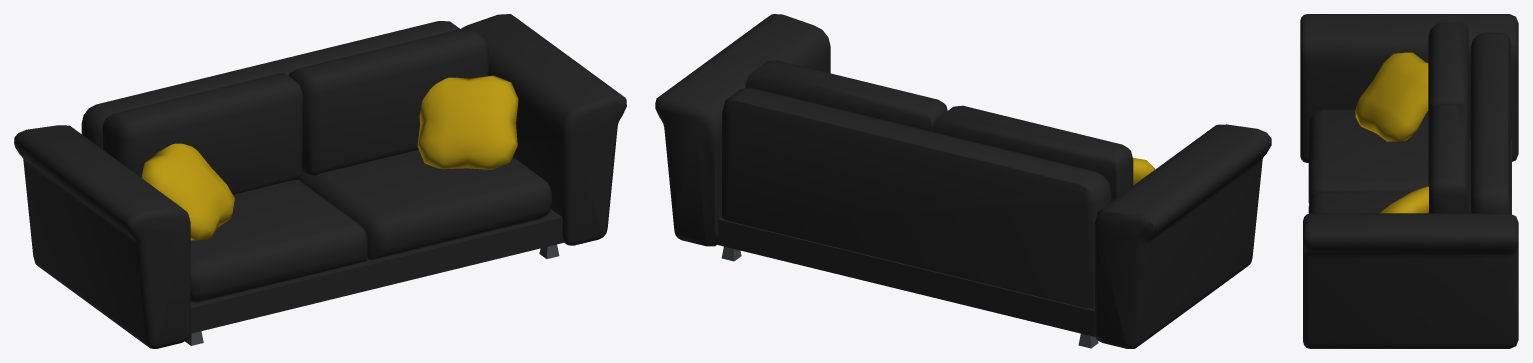
File: Secretary-Room-Seat.fbx
3 renders of one model, left to right at view 1: azimuth 30°, elevation 25°; view 2: azimuth 150°, elevation 25°; view 3: azimuth 270°, elevation 25°, orthographic. The views are drawn at different scales.
Visible parts, largest first — view 1: Secretary-Room-Seat, Secretary-Room-Seat-Pillow-1, Secretary-Room-Seat-Pillow-2; view 2: Secretary-Room-Seat; view 3: Secretary-Room-Seat, Secretary-Room-Seat-Pillow-2, Secretary-Room-Seat-Pillow-1.
Boxes of the visible parts, bbox=[...] form: Secretary-Room-Seat: bbox=[14, 14, 626, 348]; Secretary-Room-Seat-Pillow-1: bbox=[417, 75, 518, 169]; Secretary-Room-Seat-Pillow-2: bbox=[141, 143, 234, 240]; Secretary-Room-Seat: bbox=[655, 14, 1271, 348]; Secretary-Room-Seat: bbox=[1300, 14, 1518, 348]; Secretary-Room-Seat-Pillow-2: bbox=[1355, 52, 1428, 141]; Secretary-Room-Seat-Pillow-1: bbox=[1380, 186, 1428, 213].
Bounding box in the file's own units: 3.19 × 1.04 × 1.32.
